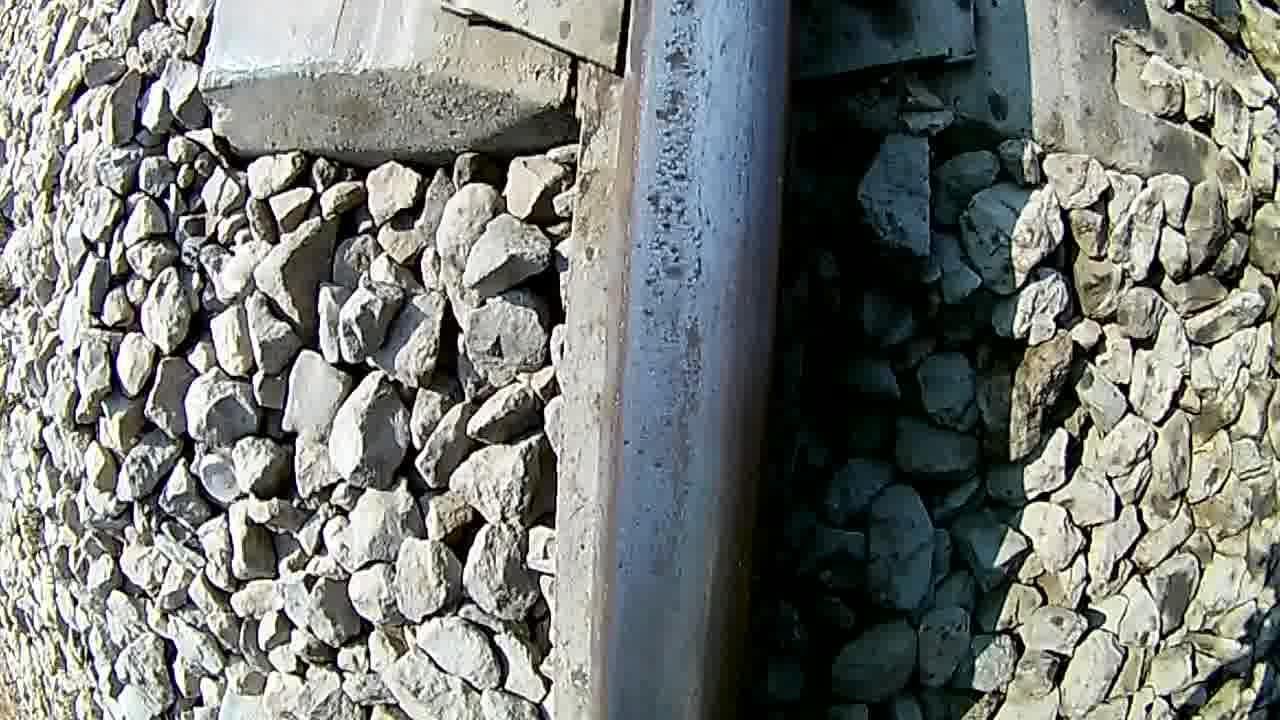crack: (596, 0, 784, 720)
